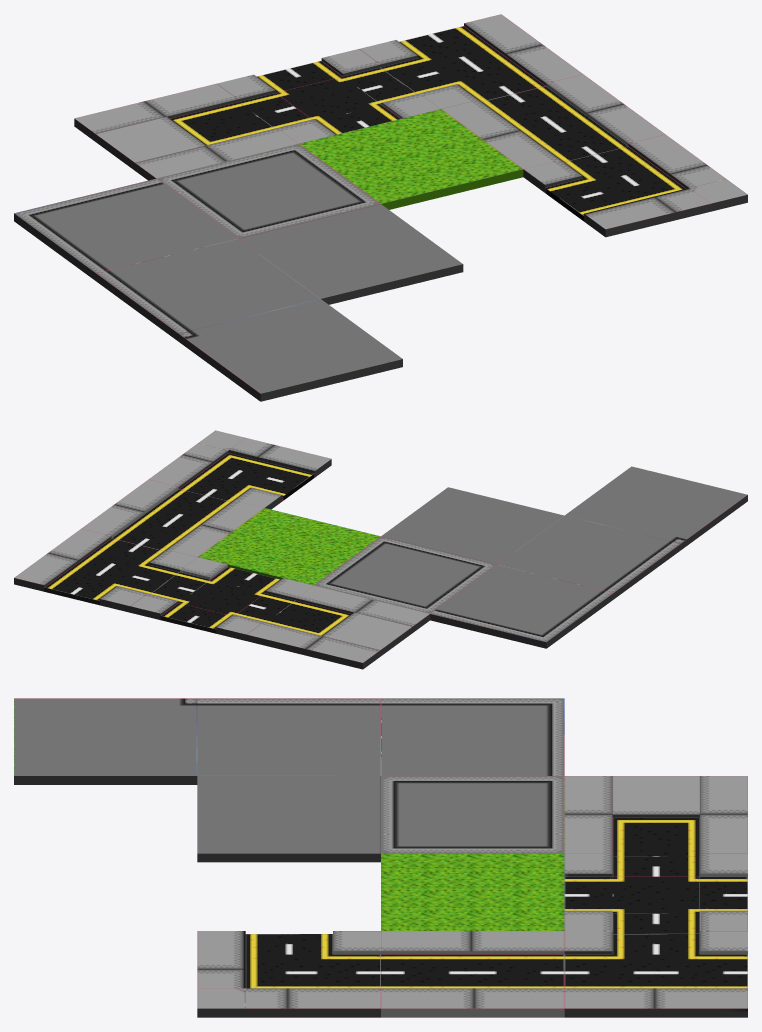
File: TestCityGrounds.fbx
3 views of the same model, one above another, from view 1: azimuth 30°, elevation 25°; view 2: azimuth 150°, elevation 25°; view 3: azimuth 270°, elevation 25° (orthographic). The views are drawn at different scales.
Visible parts, largest first — view 1: Blank-Build-InCorner, Road-L, Blank-Build-Middle, Blank, Blank-Build-Corner, Blank-Build-Edge, Road-End, Road-T, Road-Straight, Blank-Build_Single, Road-Cross; view 2: Blank-Build-Corner, Road-End, Road-T, Road-Cross, Road-L, Blank-Build-Edge, Blank-Build-InCorner, Blank, Road-Straight, Blank-Build_Single, Blank-Build-Middle; view 3: Road-Straight, Blank-Build-Middle, Blank-Build-InCorner, Road-T, Road-L, Road-End, Road-Cross, Blank, Blank-Build_Single, Blank-Build-Corner, Blank-Build-Edge.
Boxes of the visible parts, x1,y1,x2,y2 form: Blank-Build-InCorner: (178,299,402,401); Road-L: (523,134,747,237); Blank-Build-Middle: (239,204,463,304); Blank: (299,109,523,209); Blank-Build-Corner: (14,178,238,280); Blank-Build-Edge: (96,239,320,340); Road-End: (74,83,298,180); Road-T: (359,14,582,108); Road-Straight: (441,74,665,168); Blank-Build_Single: (156,144,380,238); Road-Cross: (217,49,440,143); Blank-Build-Corner: (430,565,613,648); Road-End: (246,585,430,669); Road-T: (14,528,196,612); Road-Cross: (130,557,313,640); Road-L: (148,430,331,509); Blank-Build-Edge: (497,515,680,599); Blank-Build-InCorner: (565,466,747,549); Blank: (198,508,380,585); Road-Straight: (81,479,263,556); Blank-Build_Single: (314,536,496,613); Blank-Build-Middle: (381,487,563,564); Road-Straight: (381,931,564,1017); Blank-Build-Middle: (197,776,380,862); Blank-Build-InCorner: (14,698,197,784); Road-T: (564,931,747,1017); Road-L: (197,931,380,1017); Road-End: (564,776,747,856); Road-Cross: (564,853,747,933); Blank: (381,853,564,930); Blank-Build_Single: (381,776,564,853); Blank-Build-Corner: (381,698,564,775); Blank-Build-Edge: (197,698,380,775).
Bounding box in the file's own units: 1400 × 18.75 × 1400.
Materials: 1 (1 with a texture image).
